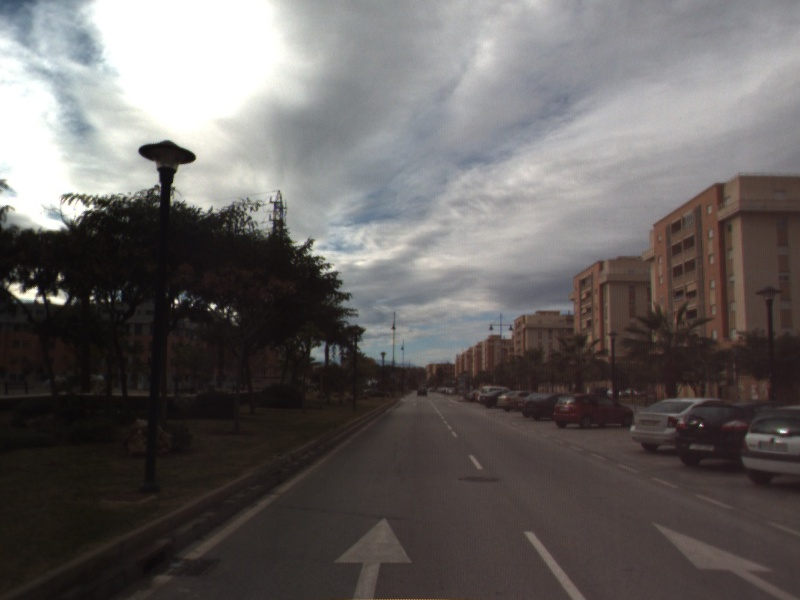STRAIGHT: (651, 521, 800, 600), (332, 516, 414, 600)
